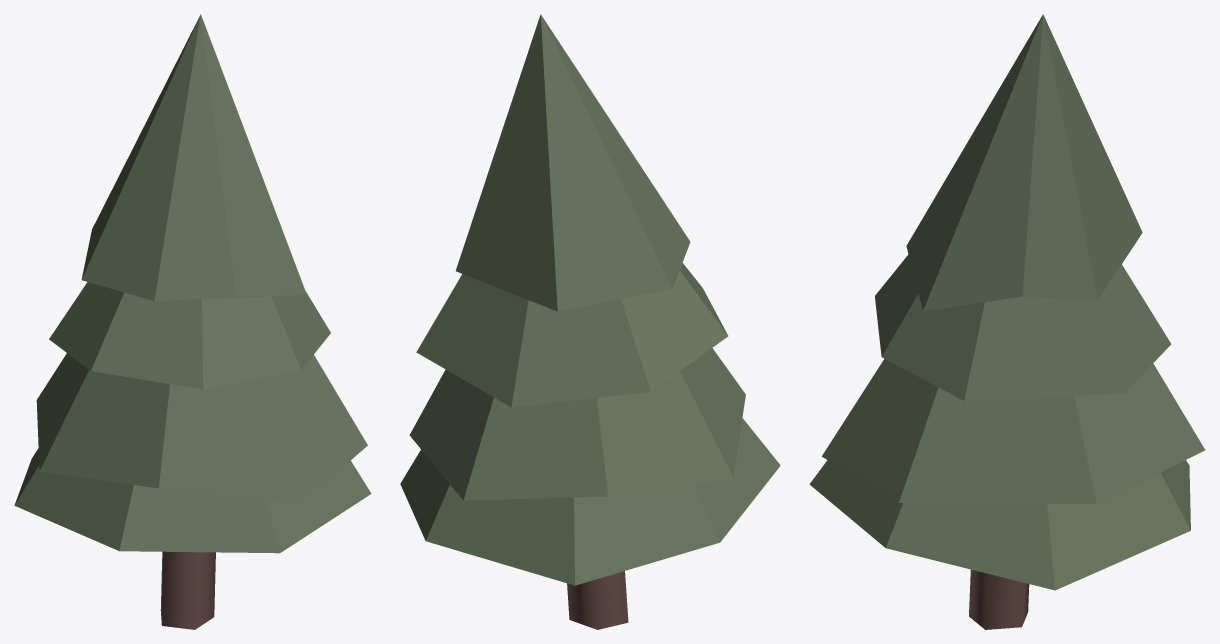
The model's file is FirTree_2.fbx.
3 views of the same model, side by side, from view 1: azimuth 30°, elevation 25°; view 2: azimuth 150°, elevation 25°; view 3: azimuth 270°, elevation 25° (orthographic). The views are drawn at different scales.
Visible parts, largest first — view 1: FirTree4; view 2: FirTree4; view 3: FirTree4.
Boxes of the visible parts, x1,y1,x2,y2 form: FirTree4: (14, 14, 371, 629); FirTree4: (400, 14, 780, 629); FirTree4: (809, 14, 1205, 629).
Bounding box in the file's own units: 462 × 835 × 481.
